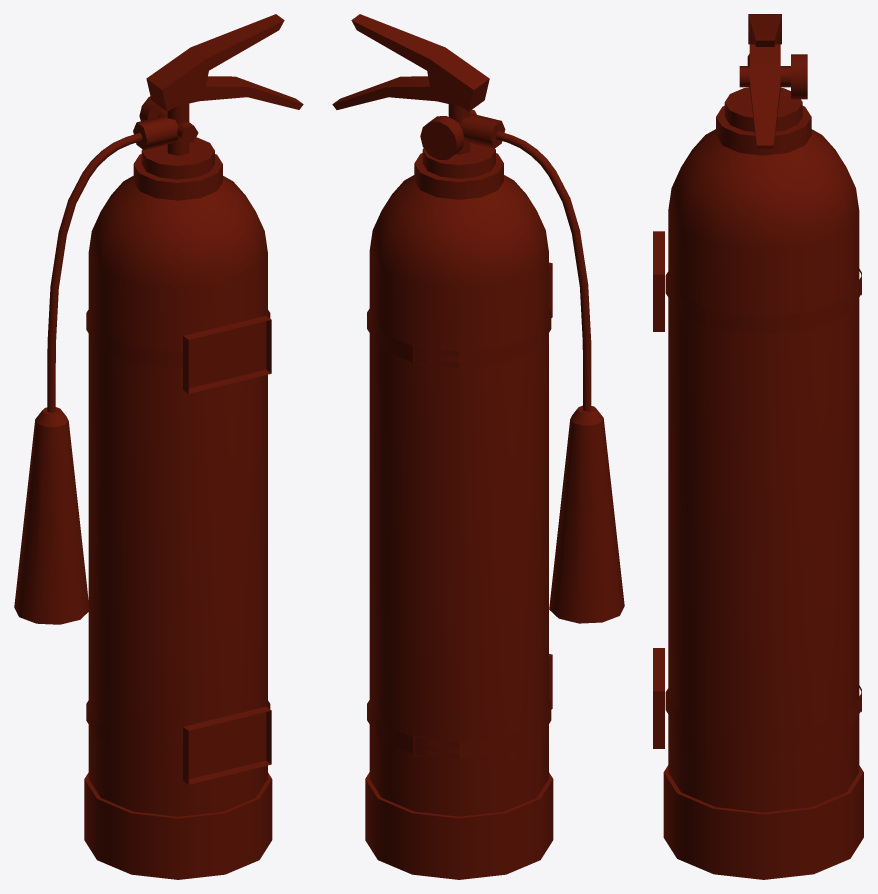
The model's file is fire2.FBX.
The picture shows the model from 3 angles, left to right: view 1: azimuth 30°, elevation 25°; view 2: azimuth 150°, elevation 25°; view 3: azimuth 270°, elevation 25°; orthographic projection. The views are drawn at different scales.
Visible parts, largest first — view 1: fire2; view 2: fire2; view 3: fire2.
Boxes of the visible parts, x1,y1,x2,y2 form: fire2: [14, 14, 303, 879]; fire2: [332, 14, 624, 879]; fire2: [653, 14, 863, 879].
Bounding box in the file's own units: 26.13 × 70.6 × 15.86.
